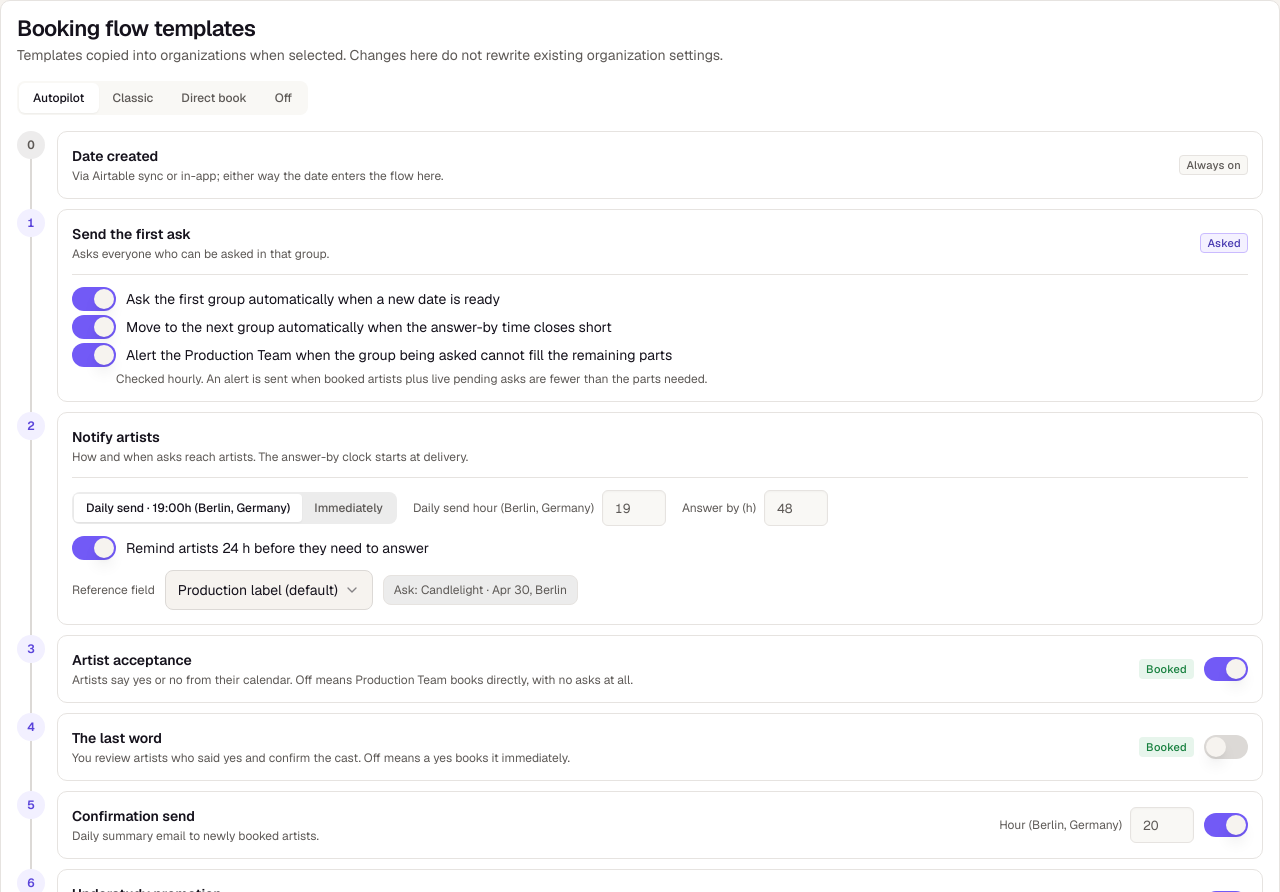
BookingTemplatesDefaultsCard › blocks saving an invalid Hour (Berlin, Germany)
Replace the text in the number field labelled "Hour (Berlin, Germany)" with "-1": (1162, 825) 1130,807 -> 1194,843
(page scrolled)
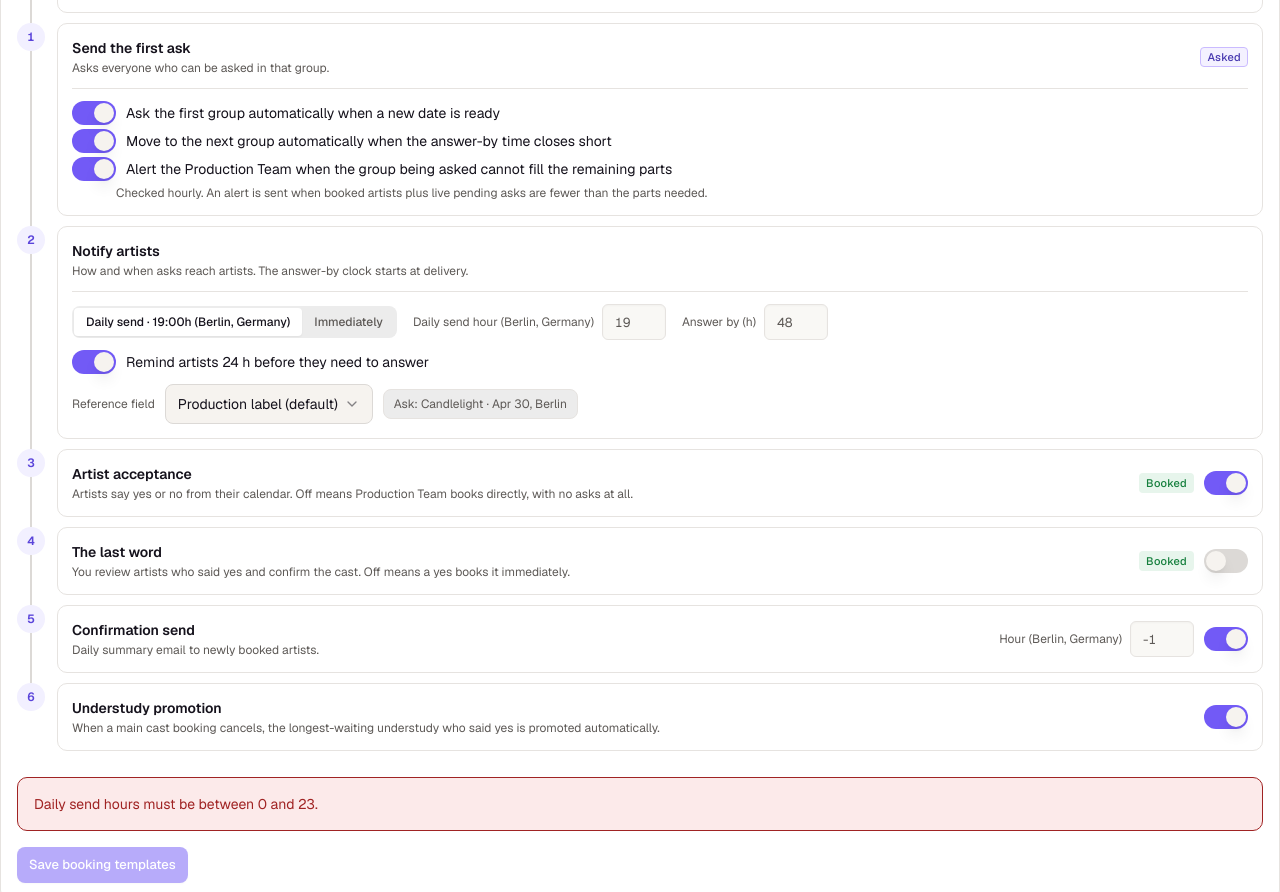
Result: the text "Daily send hours must be between 0 and 23." is shown at 34,795 -> 318,813
Result: the button "Save booking templates" is disabled at 17,847 -> 188,883
